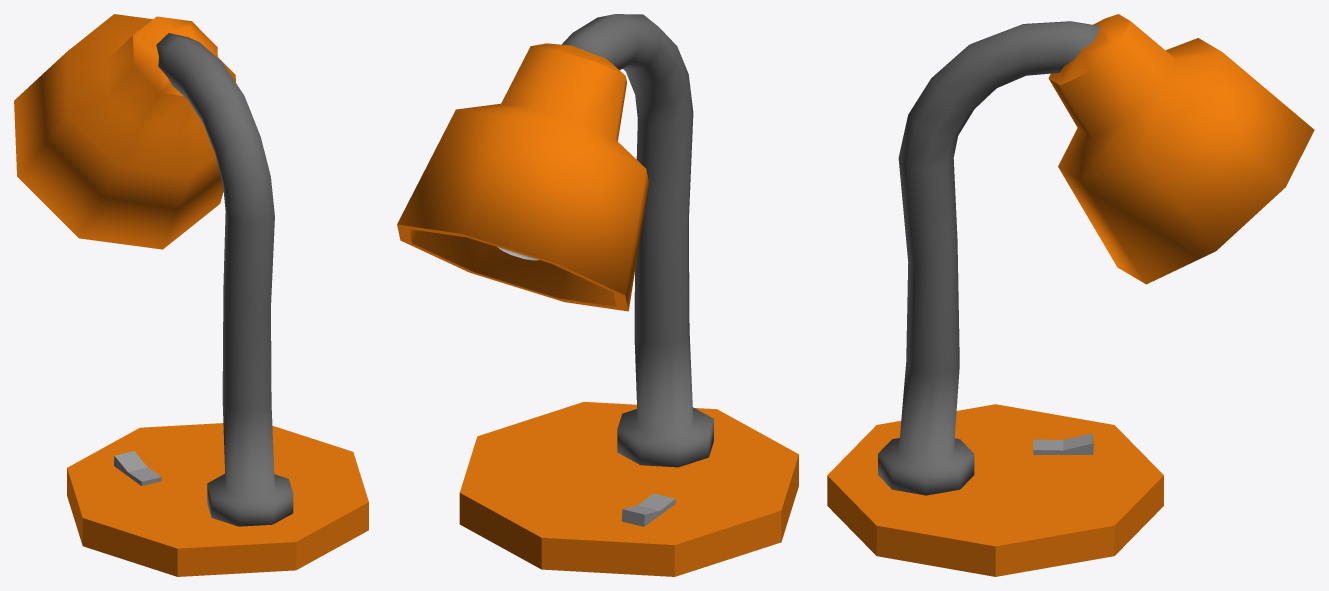
The model's file is TableLamp.fbx.
The picture shows the model from 3 angles, left to right: view 1: azimuth 30°, elevation 25°; view 2: azimuth 150°, elevation 25°; view 3: azimuth 270°, elevation 25°; orthographic projection. The views are drawn at different scales.
Visible parts, largest first — view 1: lamp; view 2: lamp; view 3: lamp.
Boxes of the visible parts, <box> form: lamp: <box>14,14,368,576</box>; lamp: <box>397,14,798,576</box>; lamp: <box>827,14,1314,576</box>.
Size of the model in its own units: 422 by 671 by 611.
